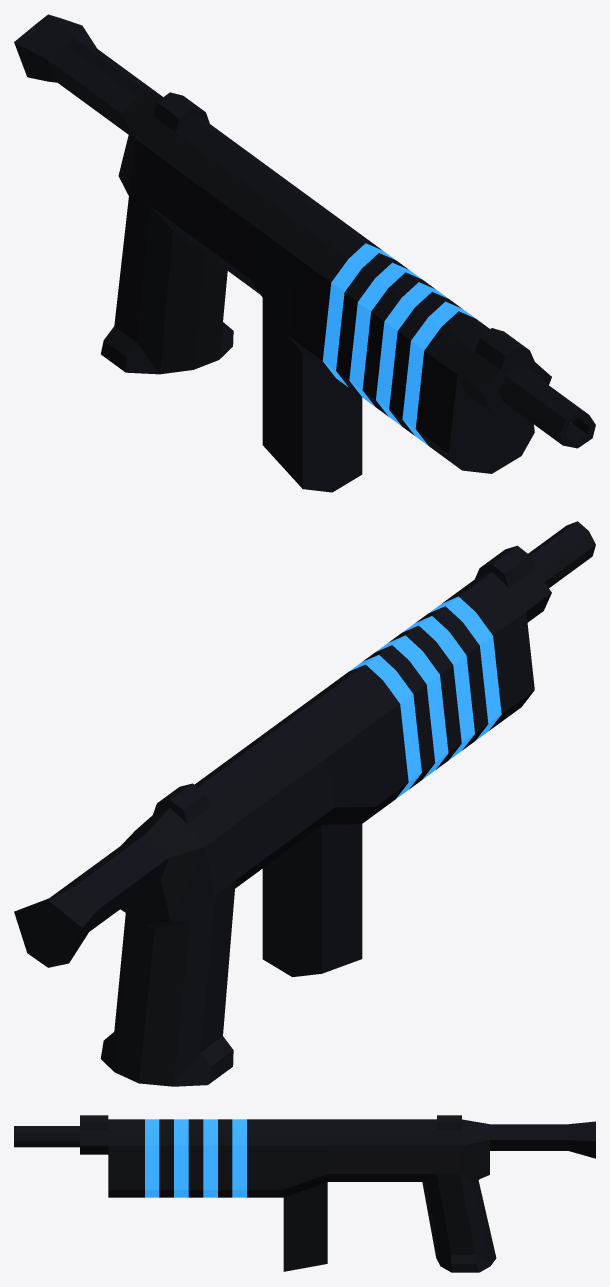
The model's file is Model_TwoHanded_AutoGun.fbx.
3 views of the same model, one above another, from view 1: azimuth 30°, elevation 25°; view 2: azimuth 150°, elevation 25°; view 3: azimuth 270°, elevation 25° (orthographic). The views are drawn at different scales.
Parts seen in each view (by area): view 1: AutoGun; view 2: AutoGun; view 3: AutoGun.
Boxes of the visible parts, box(x1,y1,x2,y2) form: AutoGun: box(14, 14, 595, 492); AutoGun: box(14, 521, 595, 1086); AutoGun: box(14, 1115, 595, 1272).
Bounding box in the file's own units: 0.0787 × 0.1973 × 0.6731.
